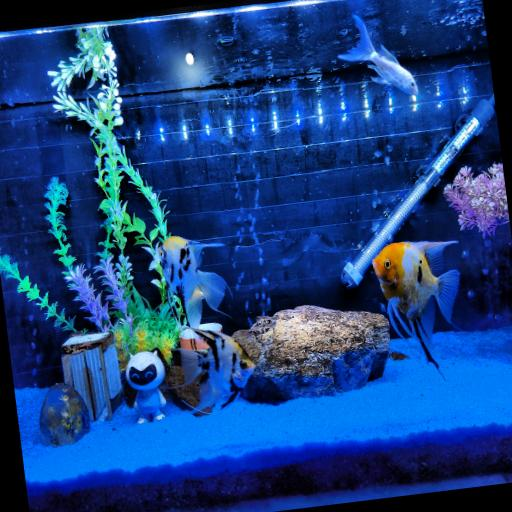Fish: (373, 241, 459, 368), (339, 15, 418, 95), (156, 237, 226, 327), (178, 329, 254, 410)
